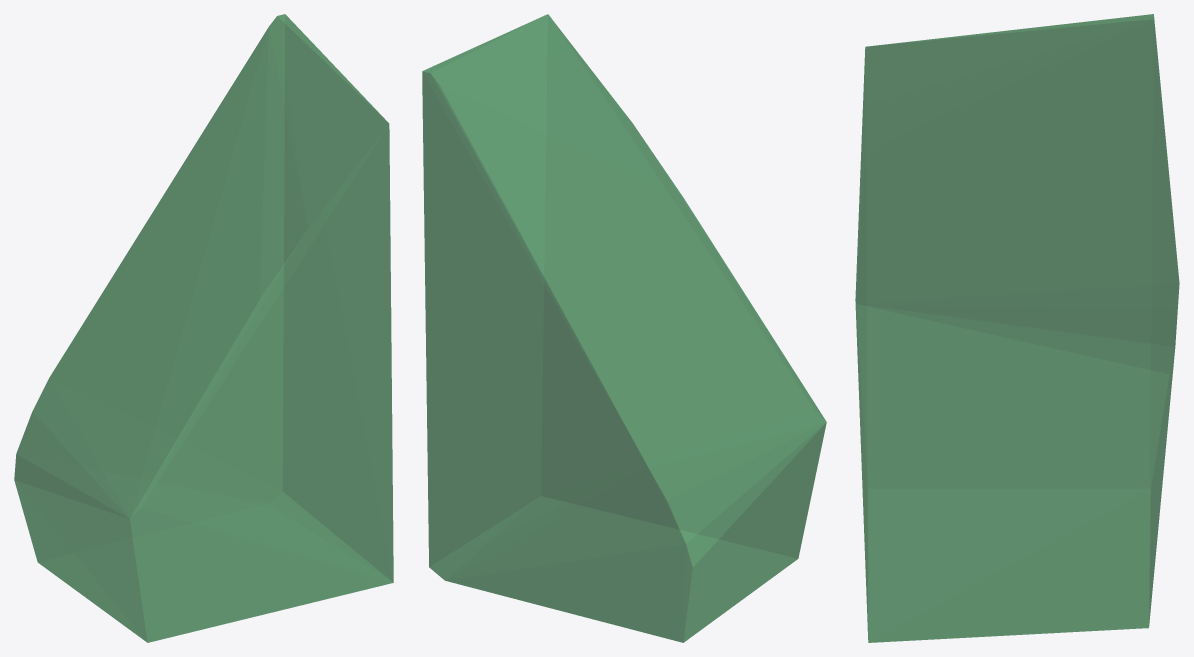
3 views of the same model, side by side, from view 1: azimuth 30°, elevation 25°; view 2: azimuth 150°, elevation 25°; view 3: azimuth 270°, elevation 25° (orthographic). The views are drawn at different scales.
Visible parts, largest first — view 1: Shape_IndexedFaceSet.008_Shape_IndexedFaceSet.12279; view 2: Shape_IndexedFaceSet.008_Shape_IndexedFaceSet.12279; view 3: Shape_IndexedFaceSet.008_Shape_IndexedFaceSet.12279.
Part boxes in pixels (left/top/right/bottom): Shape_IndexedFaceSet.008_Shape_IndexedFaceSet.12279: left=14, top=14, right=393, bottom=642; Shape_IndexedFaceSet.008_Shape_IndexedFaceSet.12279: left=422, top=14, right=826, bottom=642; Shape_IndexedFaceSet.008_Shape_IndexedFaceSet.12279: left=855, top=14, right=1179, bottom=642.
Size of the model in its own units: 0.2928 by 0.5023 by 0.2358.
